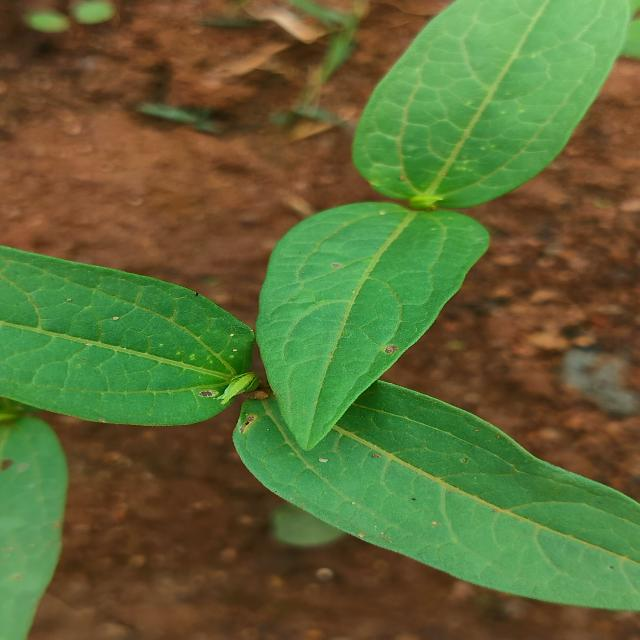Black gram_healthy: (253, 203, 483, 444)
